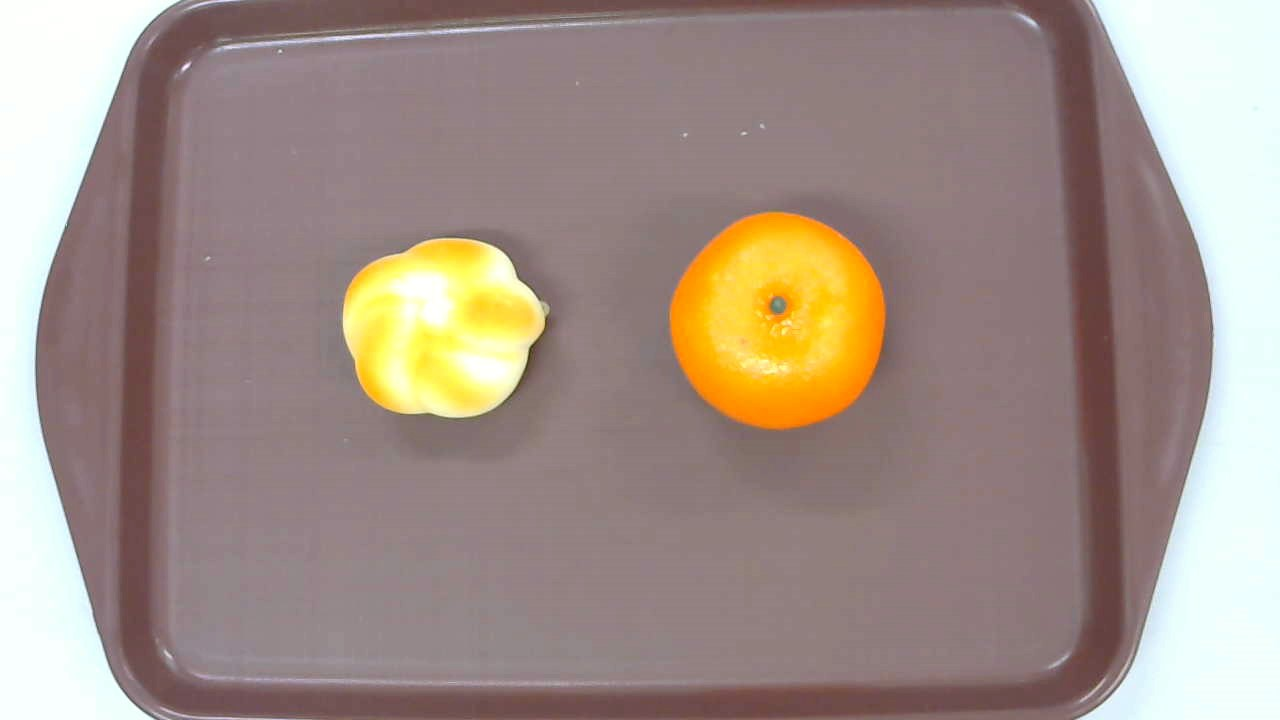orange: (666, 212, 885, 428)
twist bread: (342, 237, 552, 420)
